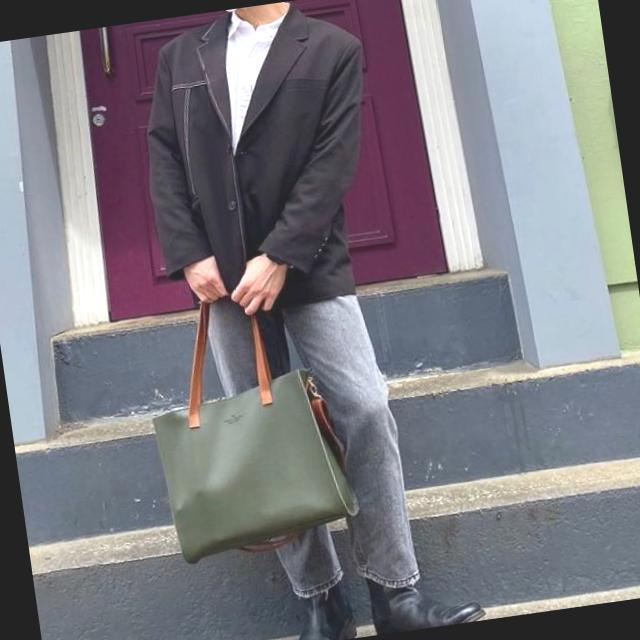blazer: (126, 0, 392, 331)
denimpants: (202, 264, 426, 610)
